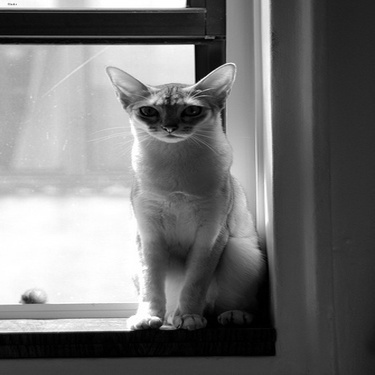cat: (106, 61, 265, 335)
